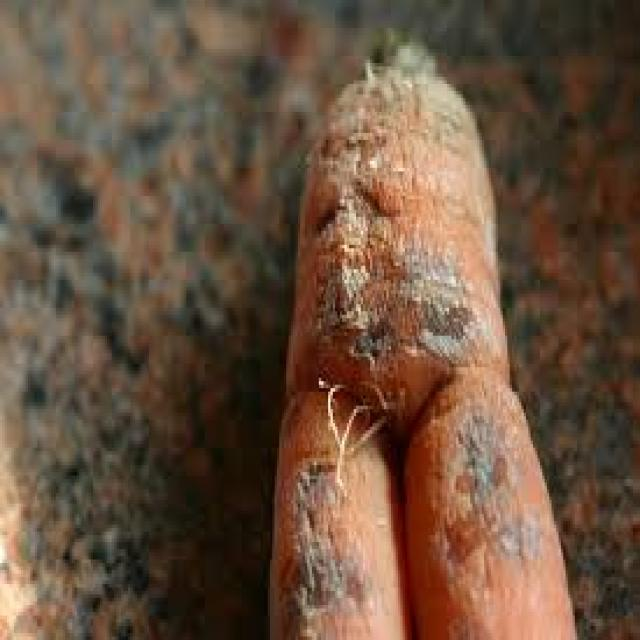Stale_Carrot: (271, 49, 573, 638)
